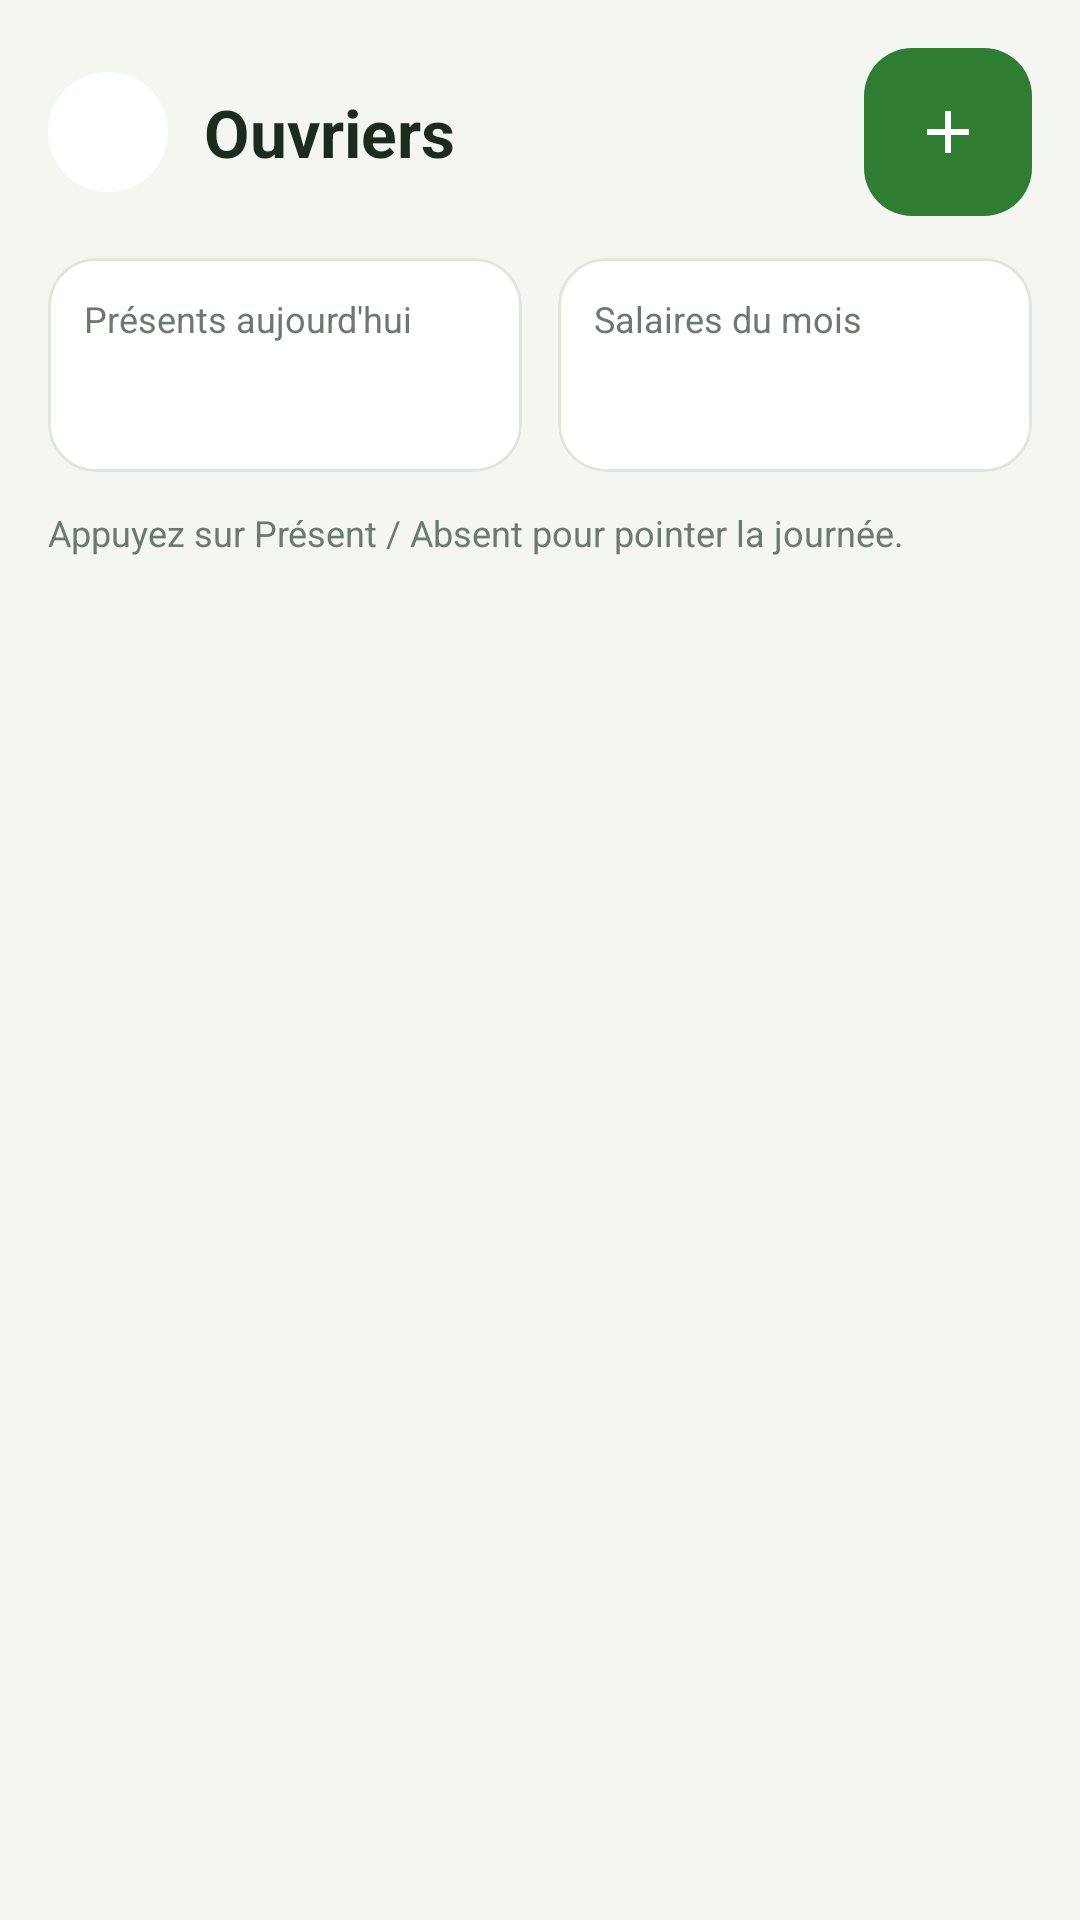

Point at icon controls on the screen. Image size 1080 x 1920, points as (x=x, y=y).
Ajouter un ouvrier: (x=948, y=132)
